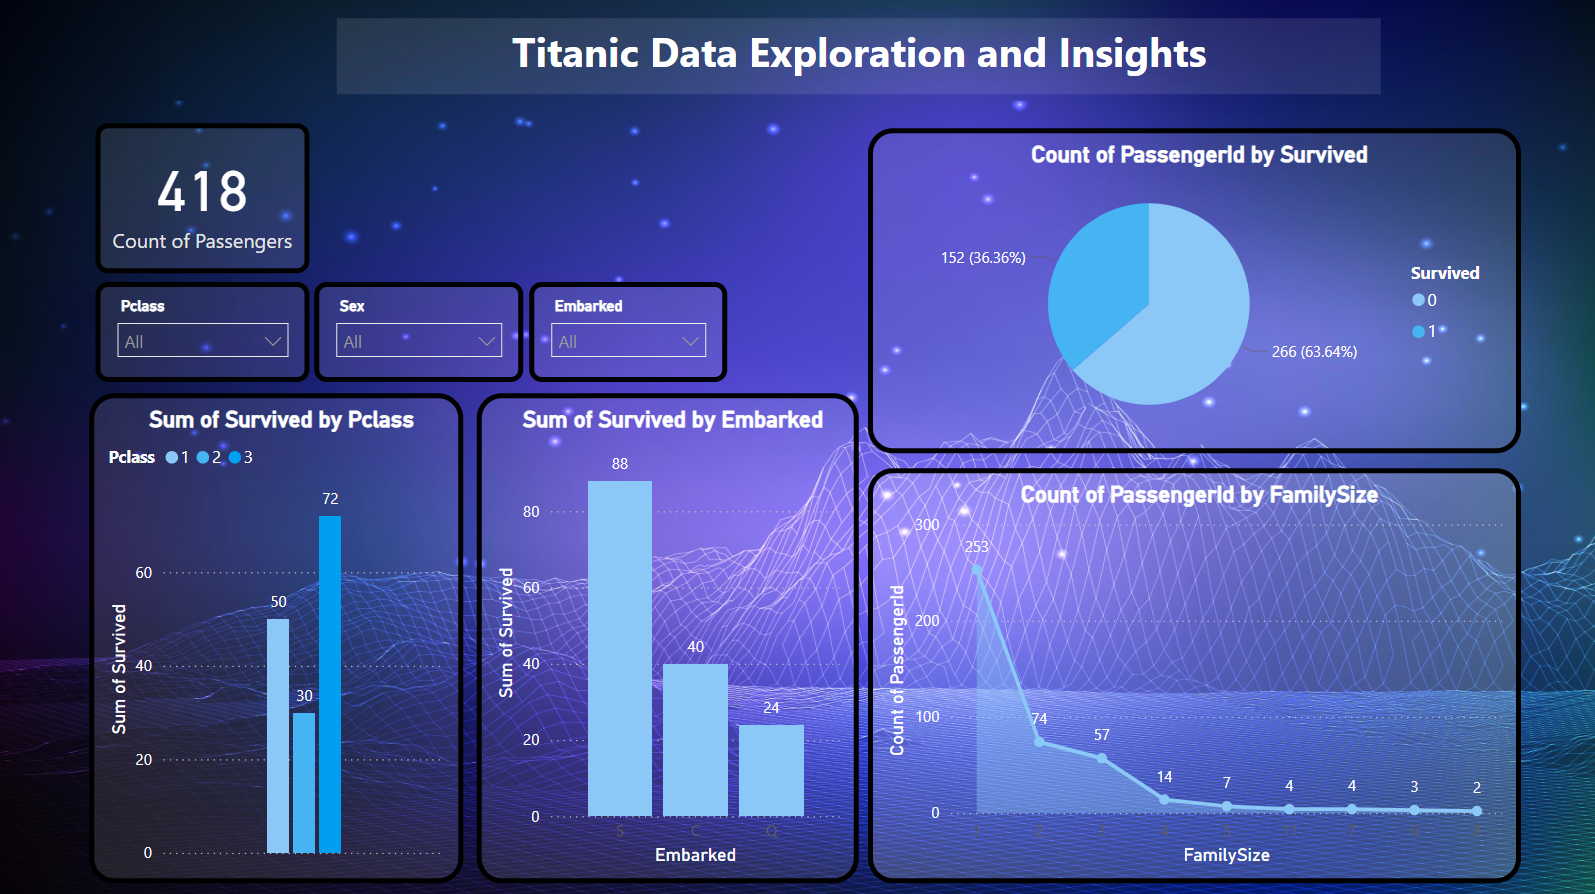

This screenshot's page, from the dashboard's own definition file:
{"tool":"powerbi","page":{"name":"Page 1","canvas":[1280,720],"ordinal":0},"visuals":[{"type":"card","fields":{"Values":["CountNonNull(test.PassengerId)"]},"box":[78,101,171,120],"z":0},{"type":"pieChart","fields":{"Category":["test.Survived"],"Y":["CountNonNull(test.PassengerId)"]},"box":[696,105,522,260],"z":1000},{"type":"clusteredColumnChart","fields":{"Y":["Sum(test.Survived)"],"Series":["test.Pclass"]},"box":[73,317,299,392],"z":2000},{"type":"clusteredColumnChart","fields":{"Category":["test.Embarked"],"Y":["Sum(test.Survived)"]},"box":[383,317,305,392],"z":3000},{"type":"lineChart","fields":{"Category":["test.FamilySize"],"Y":["CountNonNull(test.PassengerId)"]},"box":[696,377,522,332],"z":4000},{"type":"slicer","fields":{"Values":["test.Pclass"]},"box":[78,228,171,80],"z":5000},{"type":"textbox","box":[270.9,17.4,834.9,60.5],"z":6000},{"type":"slicer","fields":{"Values":["test.Sex"]},"box":[253,228,167,80],"z":7000},{"type":"slicer","fields":{"Values":["test.Embarked"]},"box":[425,228,158,80],"z":8000}]}

Visuals, with their boxes in screenshot pixels (x1, y1, x2, y2), scaled from the page's 1280x720 canvas onto the 1595x894 screenshot:
card - CountNonNull(test.PassengerId): 97, 125, 310, 274
pieChart - test.Survived x CountNonNull(test.PassengerId): 867, 130, 1518, 453
clusteredColumnChart - Sum(test.Survived) x test.Pclass: 91, 394, 464, 880
clusteredColumnChart - test.Embarked x Sum(test.Survived): 477, 394, 857, 880
lineChart - test.FamilySize x CountNonNull(test.PassengerId): 867, 468, 1518, 880
slicer - test.Pclass: 97, 283, 310, 382
textbox: 338, 22, 1378, 97
slicer - test.Sex: 315, 283, 523, 382
slicer - test.Embarked: 530, 283, 726, 382
